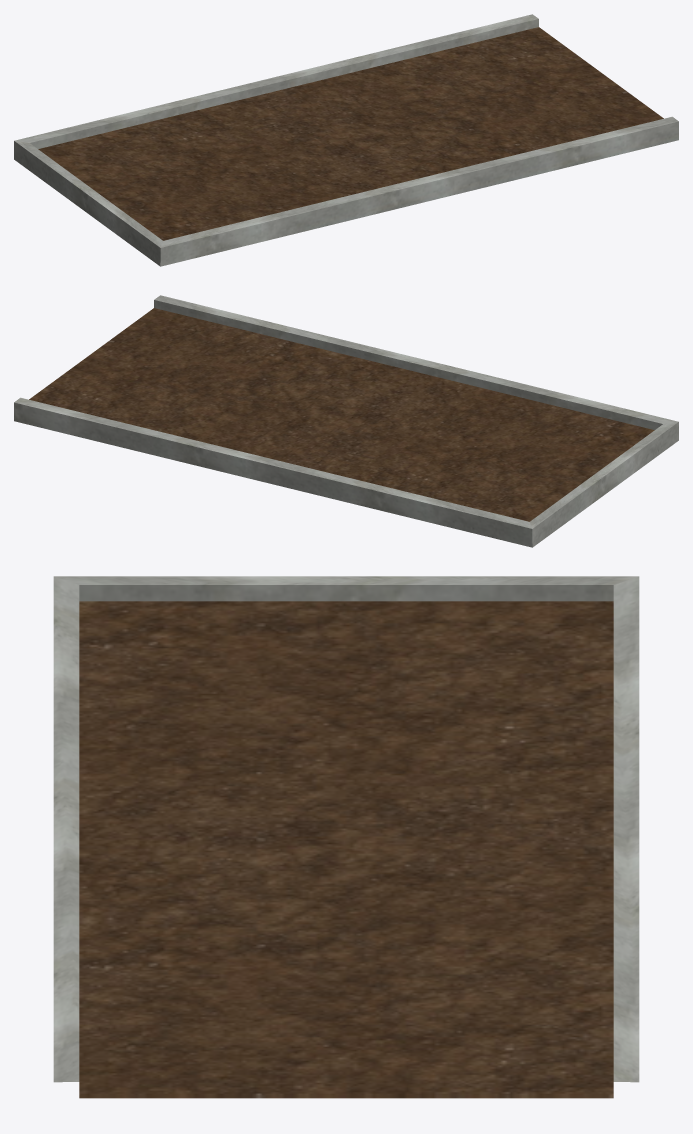
The model's file is Kiyari_4.fbx.
3 renders of one model, top to bottom at view 1: azimuth 30°, elevation 25°; view 2: azimuth 150°, elevation 25°; view 3: azimuth 270°, elevation 25°, orthographic. The views are drawn at different scales.
Parts seen in each view (by area): view 1: Kiyari_4; view 2: Kiyari_4; view 3: Kiyari_4.
Boxes of the visible parts, x1=… form: Kiyari_4: x1=14, y1=14, x2=678, y2=266; Kiyari_4: x1=14, y1=295, x2=678, y2=547; Kiyari_4: x1=53, y1=576, x2=639, y2=1098.
Bounding box in the file's own units: 4.09 × 0.142 × 2.
